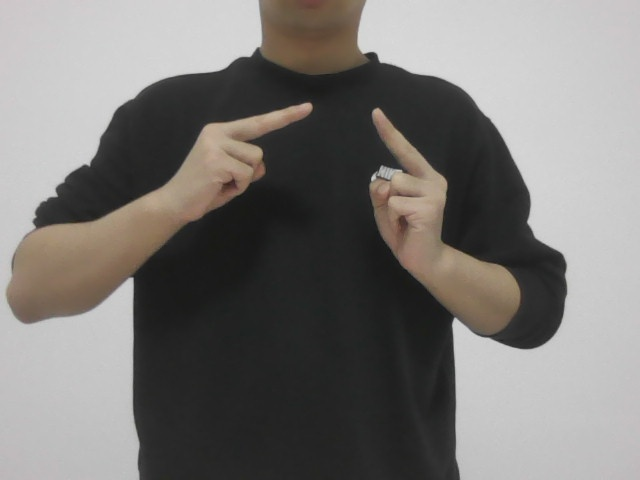know: (164, 95, 449, 277)
